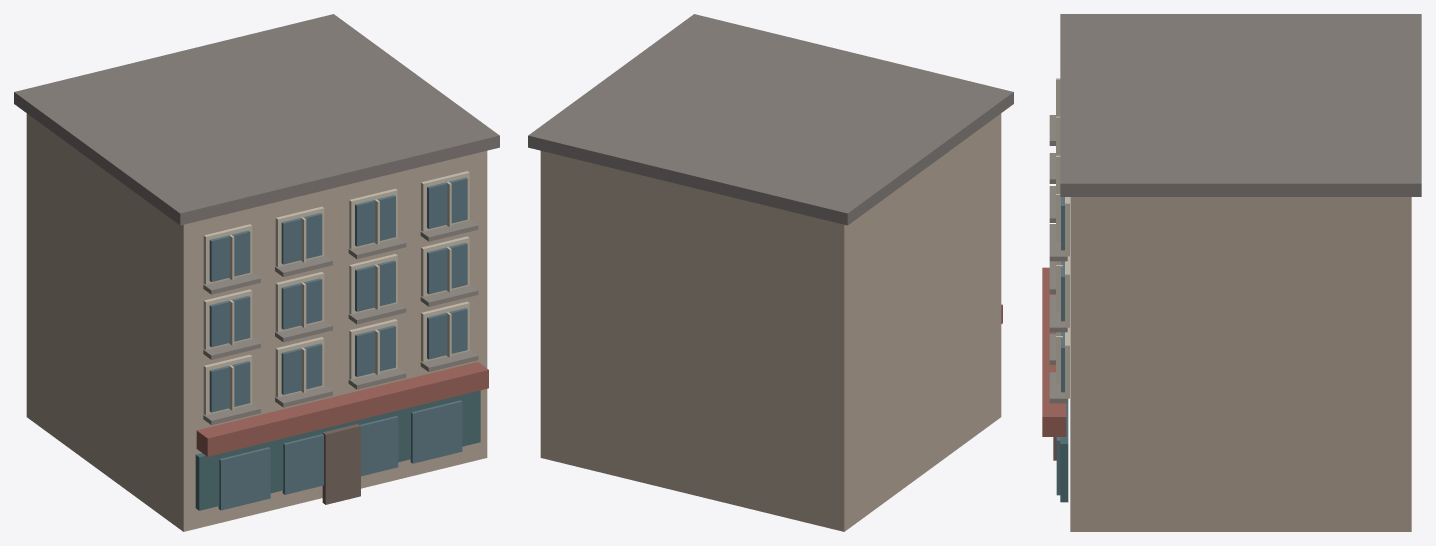
File: storefront.glb
The picture shows the model from 3 angles, left to right: view 1: azimuth 30°, elevation 25°; view 2: azimuth 150°, elevation 25°; view 3: azimuth 270°, elevation 25°; orthographic projection. The views are drawn at different scales.
Visible parts, largest first — view 1: storefront_0, storefront_1, storefront_51, storefront_50, storefront_56, storefront_52, storefront_55, storefront_53, storefront_54, storefront_7, storefront_35, storefront_15 (+33 smaller); view 2: storefront_0, storefront_1; view 3: storefront_0, storefront_1, storefront_51, storefront_50.
Part boxes in pixels (<box>): storefront_0: <box>26,113,487,531</box>; storefront_1: <box>14,14,499,225</box>; storefront_51: <box>196,362,488,456</box>; storefront_50: <box>195,390,480,510</box>; storefront_56: <box>322,424,360,504</box>; storefront_52: <box>218,447,270,510</box>; storefront_55: <box>410,400,462,463</box>; storefront_53: <box>282,434,323,494</box>; storefront_54: <box>359,416,398,476</box>; storefront_7: <box>281,343,322,394</box>; storefront_35: <box>209,230,250,281</box>; storefront_15: <box>427,308,467,359</box>; storefront_0: <box>540,113,1001,531</box>; storefront_1: <box>528,14,1013,225</box>; storefront_0: <box>1070,197,1411,531</box>; storefront_1: <box>1060,14,1421,196</box>; storefront_51: <box>1042,267,1066,436</box>; storefront_50: <box>1060,399,1068,502</box>.
Bounding box in the file's own units: 10 × 9.68 × 9.45.
